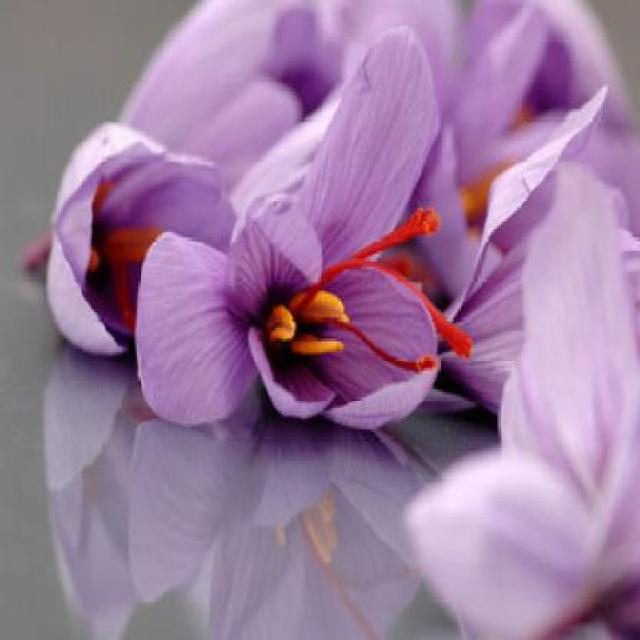Flower: (127, 56, 456, 438), (18, 116, 228, 344)
stigma: (319, 202, 464, 269), (333, 319, 447, 389)
